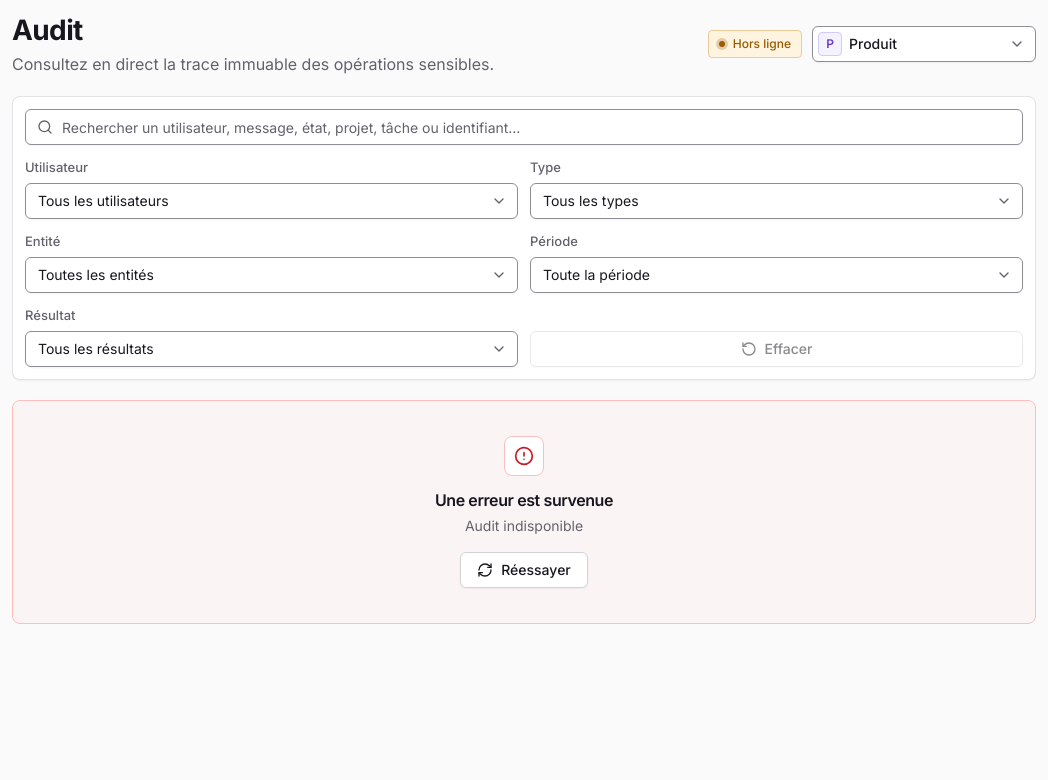
Test: AuditPage › shows network errors and retries
Expected: the text "Audit indisponible" is shown, x1=465 y1=516 x2=583 y2=536
What coordinates should you click on to do the following:
click the button "Réessayer"
I would click on:
 (524, 570)
Its box is x1=460 y1=552 x2=588 y2=588.
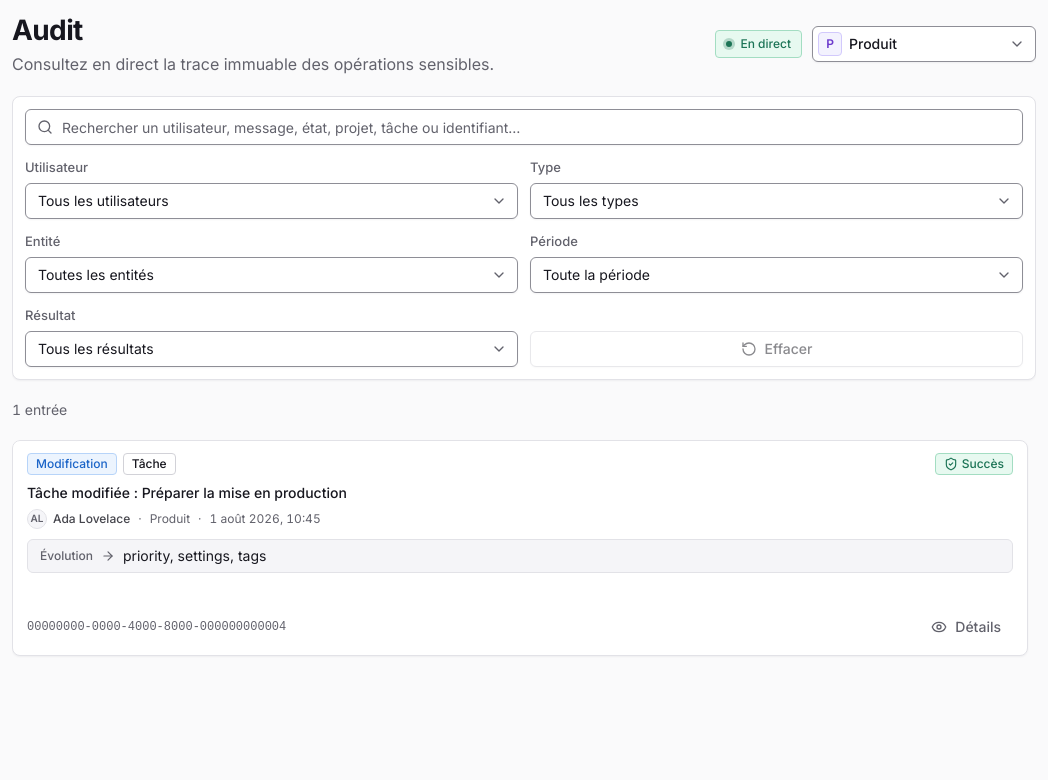
Expected: the heading "Tâche modifiée : Préparer la mise en production" is shown, x1=27 y1=484 x2=347 y2=501
